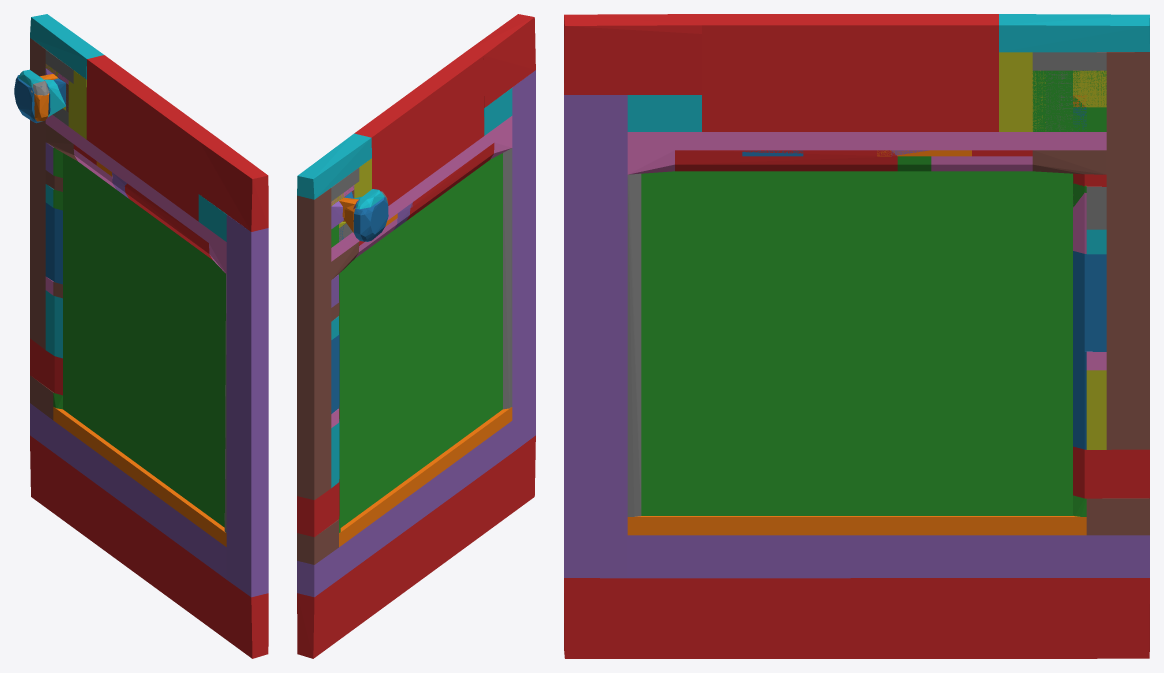
Rendered from Door_02_cvx.obj.
3 renders of one model, left to right at view 1: azimuth 30°, elevation 25°; view 2: azimuth 150°, elevation 25°; view 3: azimuth 270°, elevation 25°, orthographic. The views are drawn at different scales.
Parts seen in each view (by area): view 1: scenes/apartment_0000_coacd/output/Unknown/Kitchen_Extractor/Doo; view 2: scenes/apartment_0000_coacd/output/Unknown/Kitchen_Extractor/Doo; view 3: scenes/apartment_0000_coacd/output/Unknown/Kitchen_Extractor/Doo.
Part boxes in pixels (bbox=[...]): scenes/apartment_0000_coacd/output/Unknown/Kitchen_Extractor/Doo: bbox=[14, 14, 268, 658]; scenes/apartment_0000_coacd/output/Unknown/Kitchen_Extractor/Doo: bbox=[297, 14, 535, 658]; scenes/apartment_0000_coacd/output/Unknown/Kitchen_Extractor/Doo: bbox=[564, 14, 1149, 658].
Size of the model in its own units: 0.0639 by 0.543 by 0.4543.
